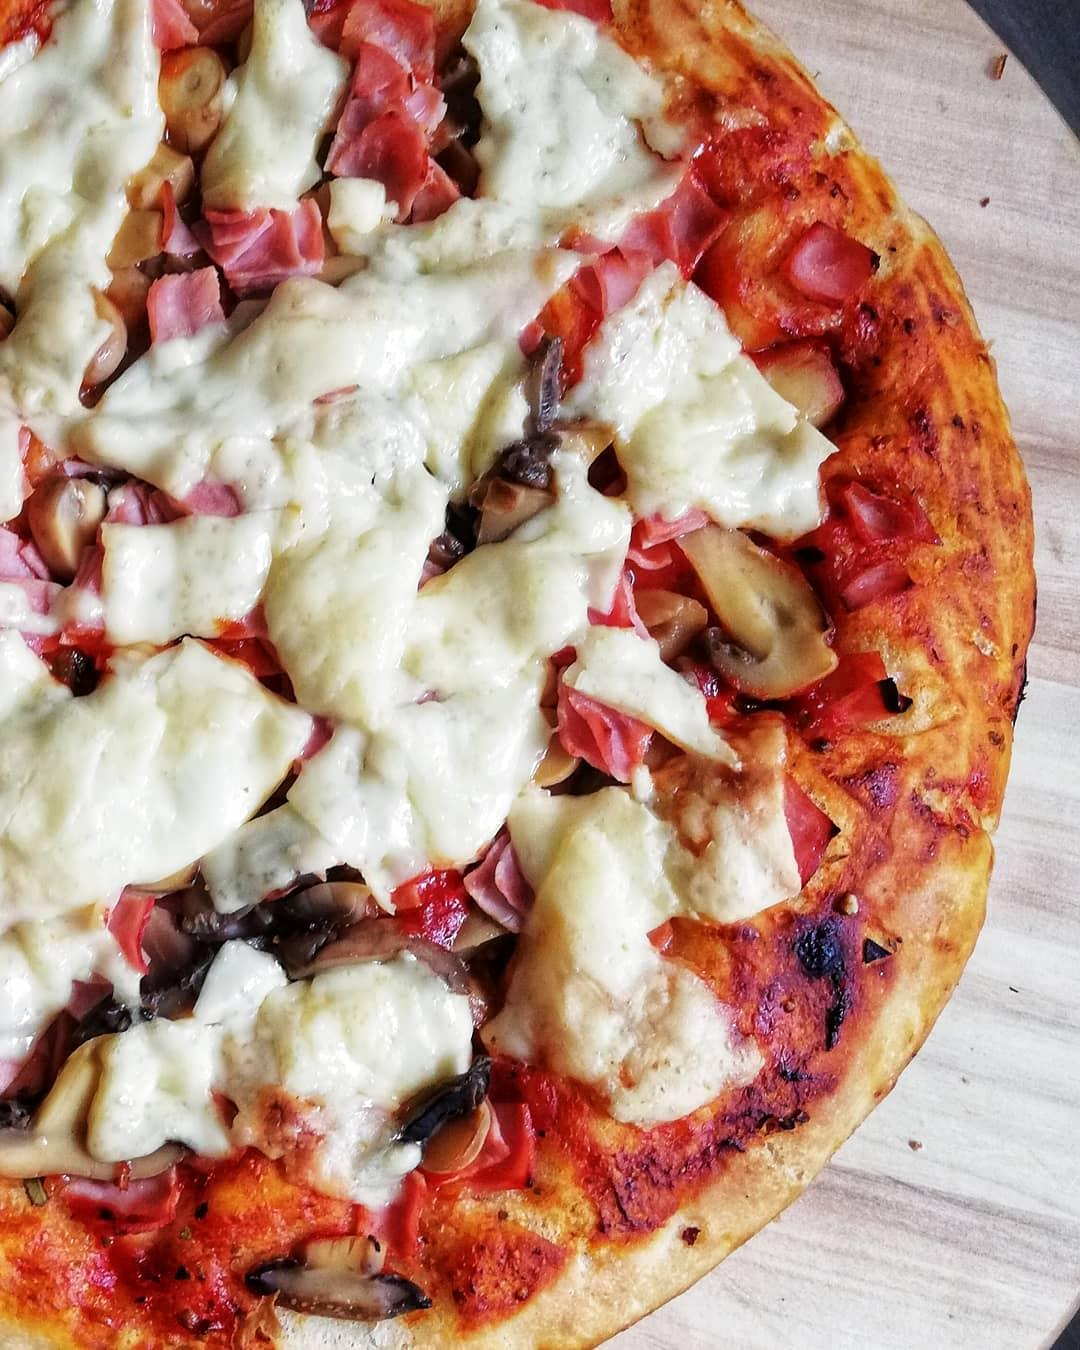Cheese: (0, 679, 242, 875), (116, 992, 423, 1123), (149, 341, 472, 454), (303, 699, 534, 855), (0, 48, 139, 284), (283, 485, 406, 698), (534, 813, 641, 1055), (507, 44, 615, 226), (642, 317, 746, 494)
Ham: (331, 0, 445, 219), (572, 180, 720, 320), (41, 1156, 196, 1238), (601, 504, 704, 625), (558, 669, 655, 781), (203, 196, 330, 280), (782, 224, 882, 302), (465, 829, 530, 930), (140, 276, 230, 341), (833, 484, 921, 547)
Mushroom: (0, 1029, 182, 1182), (684, 526, 841, 703), (147, 879, 375, 989), (458, 425, 616, 557), (251, 1233, 436, 1325), (32, 476, 99, 565)
Pizza: (0, 0, 1036, 1350)
